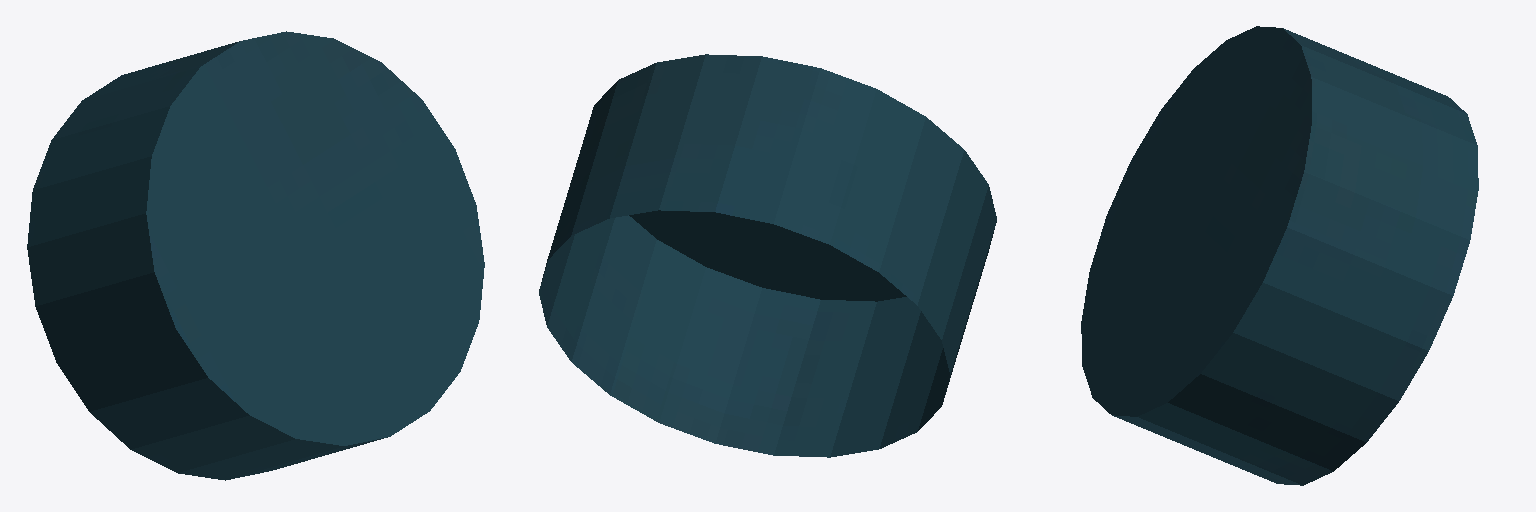
3 views of the same model, side by side, from view 1: azimuth 30°, elevation 25°; view 2: azimuth 150°, elevation 25°; view 3: azimuth 270°, elevation 25° (orthographic).
Visible parts, largest first — view 1: Front_button_low; view 2: Front_button_low; view 3: Front_button_low.
Boxes of the visible parts, x1,y1,x2,y2 form: Front_button_low: [27, 31, 484, 480]; Front_button_low: [539, 54, 996, 457]; Front_button_low: [1081, 26, 1478, 485].
Bounding box in the file's own units: 0.3954 × 0.3994 × 0.3451.
1 materials, 1 textured.